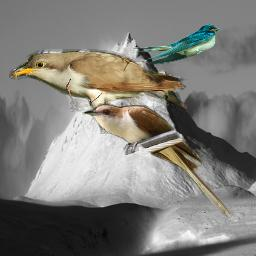Cuckoo: (82, 103, 234, 220), (9, 49, 187, 134)
Swallow: (130, 24, 221, 65)
